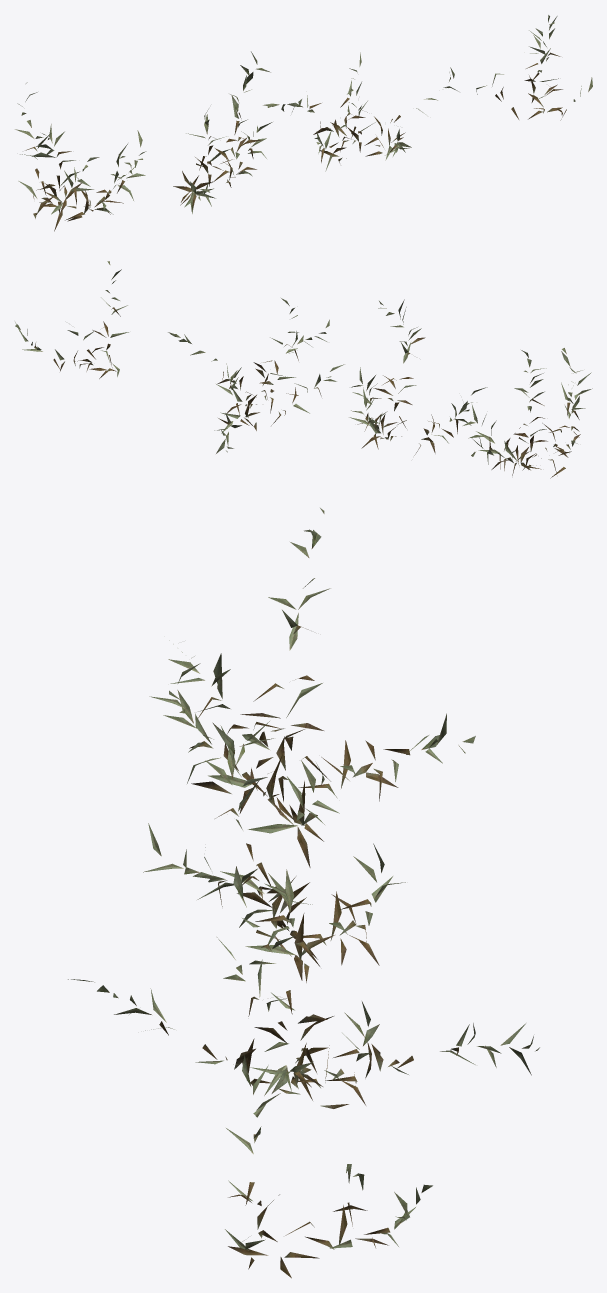
The model's file is shrub_02.glb.
3 views of the same model, one above another, from view 1: azimuth 30°, elevation 25°; view 2: azimuth 150°, elevation 25°; view 3: azimuth 270°, elevation 25° (orthographic). The views are drawn at different scales.
Parts seen in each view (by area): view 1: shrub_02_a; view 2: shrub_02_a; view 3: shrub_02_a.
Part boxes in pixels (<box>): shrub_02_a: <box>15,15,592,231</box>; shrub_02_a: <box>15,261,592,478</box>; shrub_02_a: <box>68,508,539,1278</box>.
Size of the model in its own units: 5.96 by 1.6 by 2.25.
Materials: 1 (1 with a texture image).
